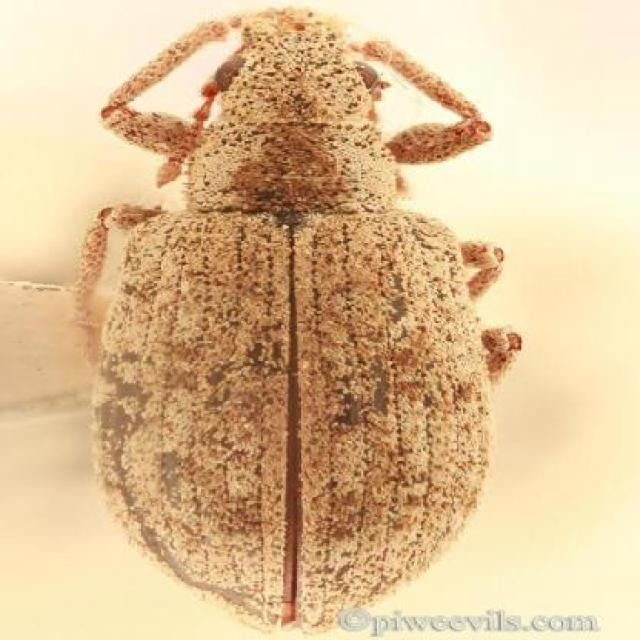rice-bug: (83, 11, 511, 627)
